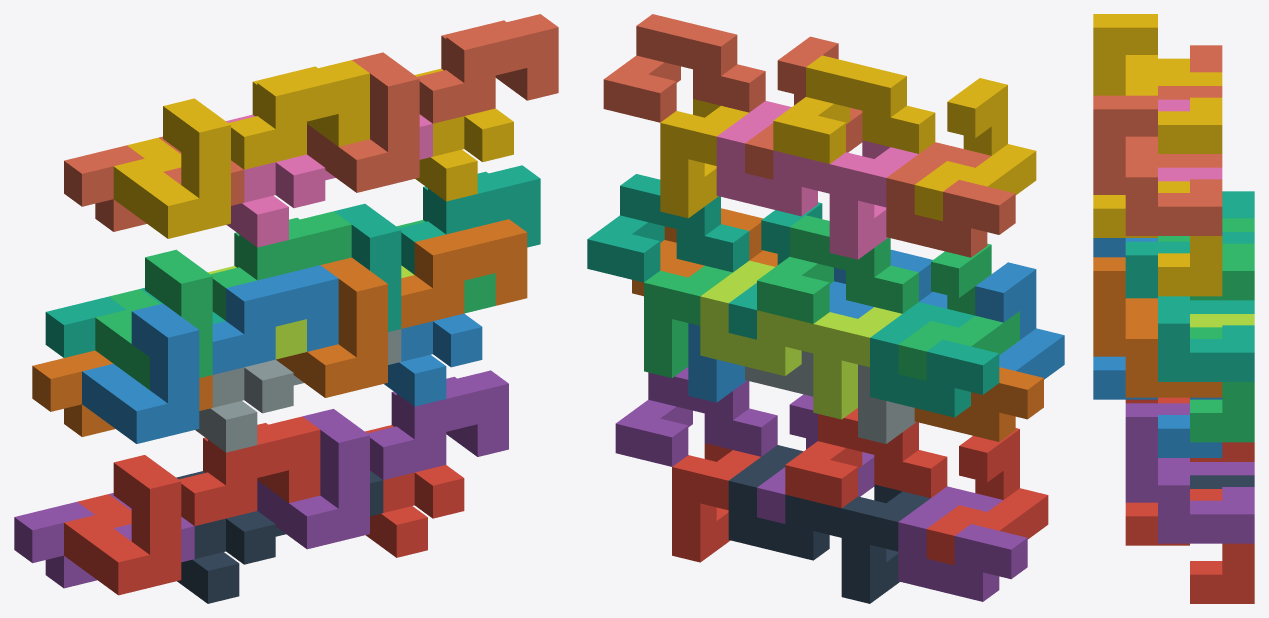
File: tiling.obj
The picture shows the model from 3 angles, left to right: view 1: azimuth 30°, elevation 25°; view 2: azimuth 150°, elevation 25°; view 3: azimuth 270°, elevation 25°; orthographic projection. The views are drawn at different scales.
Visible parts, largest first — view 1: copy_1_domain_1, copy_1_domain_4, copy_1_domain_2, copy_4_domain_8, copy_4_domain_4, copy_4_domain_1, copy_4_domain_5, copy_4_domain_6, copy_4_domain_2, copy_1_domain_8, copy_1_domain_5, copy_1_domain_6 (+16 smaller); view 2: copy_4_domain_8, copy_4_domain_4, copy_4_domain_7, copy_4_domain_3, copy_4_domain_5, copy_4_domain_1, copy_3_domain_1, copy_3_domain_3, copy_3_domain_4, copy_1_domain_4, copy_1_domain_1, copy_3_domain_5 (+19 smaller); view 3: copy_4_domain_8, copy_4_domain_5, copy_4_domain_7, copy_1_domain_8, copy_1_domain_4, copy_2_domain_5, copy_2_domain_8, copy_4_domain_4, copy_1_domain_5, copy_4_domain_6, copy_2_domain_7, copy_2_domain_6 (+12 smaller).
Part boxes in pixels (box(x1,y1,x2,y2)): copy_1_domain_1: box(64, 455, 181, 595); copy_1_domain_4: box(113, 98, 230, 238); copy_1_domain_2: box(82, 303, 199, 443); copy_4_domain_8: box(417, 14, 558, 123); copy_4_domain_4: box(228, 60, 369, 169); copy_4_domain_1: box(179, 416, 320, 526); copy_4_domain_5: box(367, 370, 508, 479); copy_4_domain_6: box(401, 219, 527, 328); copy_4_domain_2: box(212, 265, 338, 374); copy_1_domain_8: box(307, 52, 419, 192); copy_1_domain_5: box(257, 409, 369, 549); copy_1_domain_6: box(276, 257, 387, 397); copy_4_domain_8: box(603, 14, 765, 122); copy_4_domain_4: box(773, 55, 935, 163); copy_4_domain_7: box(587, 174, 749, 282); copy_4_domain_3: box(757, 215, 918, 323); copy_4_domain_5: box(615, 367, 777, 466); copy_4_domain_1: box(785, 408, 947, 508); copy_3_domain_1: box(898, 486, 1027, 601); copy_3_domain_3: box(870, 302, 999, 417); copy_3_domain_4: box(886, 142, 1015, 257); copy_1_domain_4: box(914, 78, 1036, 221); copy_1_domain_1: box(926, 428, 1048, 565); copy_3_domain_5: box(728, 445, 841, 560); copy_4_domain_8: box(1125, 136, 1222, 235); copy_4_domain_5: box(1158, 458, 1254, 543); copy_4_domain_7: box(1158, 296, 1254, 381); copy_1_domain_8: box(1093, 95, 1222, 194); copy_1_domain_4: box(1093, 14, 1222, 95); copy_2_domain_5: box(1125, 489, 1254, 603); copy_2_domain_8: box(1093, 181, 1222, 296); copy_4_domain_4: box(1125, 55, 1222, 153); copy_1_domain_5: box(1125, 403, 1254, 502); copy_4_domain_6: box(1125, 298, 1222, 397); copy_2_domain_7: box(1190, 327, 1254, 442); copy_2_domain_6: box(1093, 356, 1222, 457).
Bounding box in the file's own units: 15 × 16 × 5.
